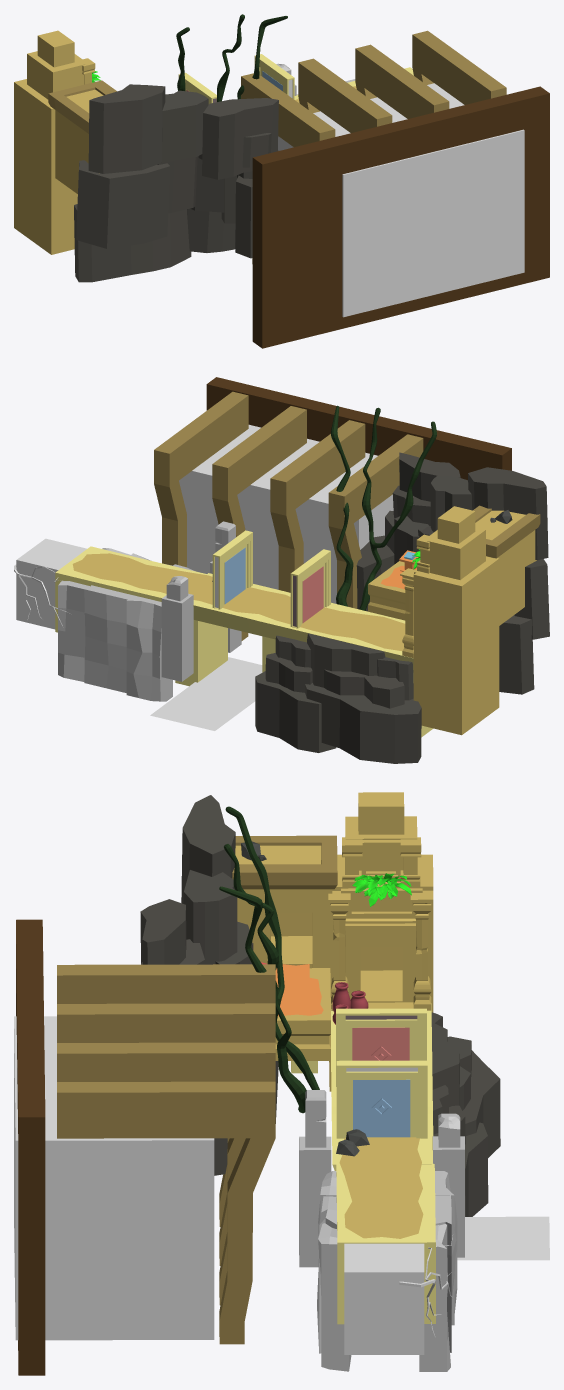
Rendered from stage.fbx.
3 views of the same model, one above another, from view 1: azimuth 30°, elevation 25°; view 2: azimuth 150°, elevation 25°; view 3: azimuth 270°, elevation 25° (orthographic). The views are drawn at different scales.
Visible parts, largest first — view 1: Cube.004, upper cliff, watercube, Cube.003, templeEntrace, Futurehouseframe, r, Cube.008, Doorframe, Cube.007, Doorframe.001; view 2: Cube.003, templeEntrace, lower cliff, upper cliff, cliff front, watercube, Cube.004, Plane, Base Floor, River, Cube, Cube.002 (+11 smaller); view 3: Cube.003, watercube, templeEntrace, Cube.004, upper cliff, Cube, lower cliff, Plane, Futurehouseframe, cliff front, Cube.006, cliff back (+14 smaller).
Boxes of the visible parts, x1,y1,x2,y2 form: Cube.004: (252, 86, 549, 348); upper cliff: (74, 84, 278, 282); watercube: (278, 83, 524, 317); Cube.003: (241, 30, 506, 263); templeEntrace: (14, 30, 95, 254); Futurehouseframe: (55, 89, 103, 193); r: (48, 80, 116, 133); Cube.008: (176, 14, 244, 101); Doorframe: (254, 54, 294, 99); Cube.007: (237, 16, 287, 99); Doorframe.001: (178, 72, 216, 104); Cube.003: (154, 391, 423, 640); templeEntrace: (400, 506, 499, 735); lower cliff: (255, 633, 421, 763); upper cliff: (356, 452, 549, 694); cliff front: (58, 580, 172, 701); watercube: (179, 424, 393, 603); Cube.004: (206, 377, 511, 480); Plane: (72, 553, 405, 650); Base Floor: (175, 573, 433, 737); River: (150, 657, 262, 730); Cube: (16, 538, 86, 629); Cube.002: (161, 576, 193, 681); Cube.003: (57, 964, 275, 1344); watercube: (14, 1016, 214, 1340); templeEntrace: (328, 792, 433, 1091); Cube.004: (16, 919, 45, 1375); upper cliff: (140, 795, 278, 1175); Cube: (344, 1243, 424, 1354); lower cliff: (431, 1012, 500, 1216); Plane: (339, 1002, 423, 1238); Futurehouseframe: (235, 845, 332, 987); cliff front: (419, 1171, 457, 1371); Cube.006: (299, 1090, 331, 1267); cliff back: (317, 1171, 351, 1371).
Size of the model in its own units: 5475 by 3054 by 3985.
